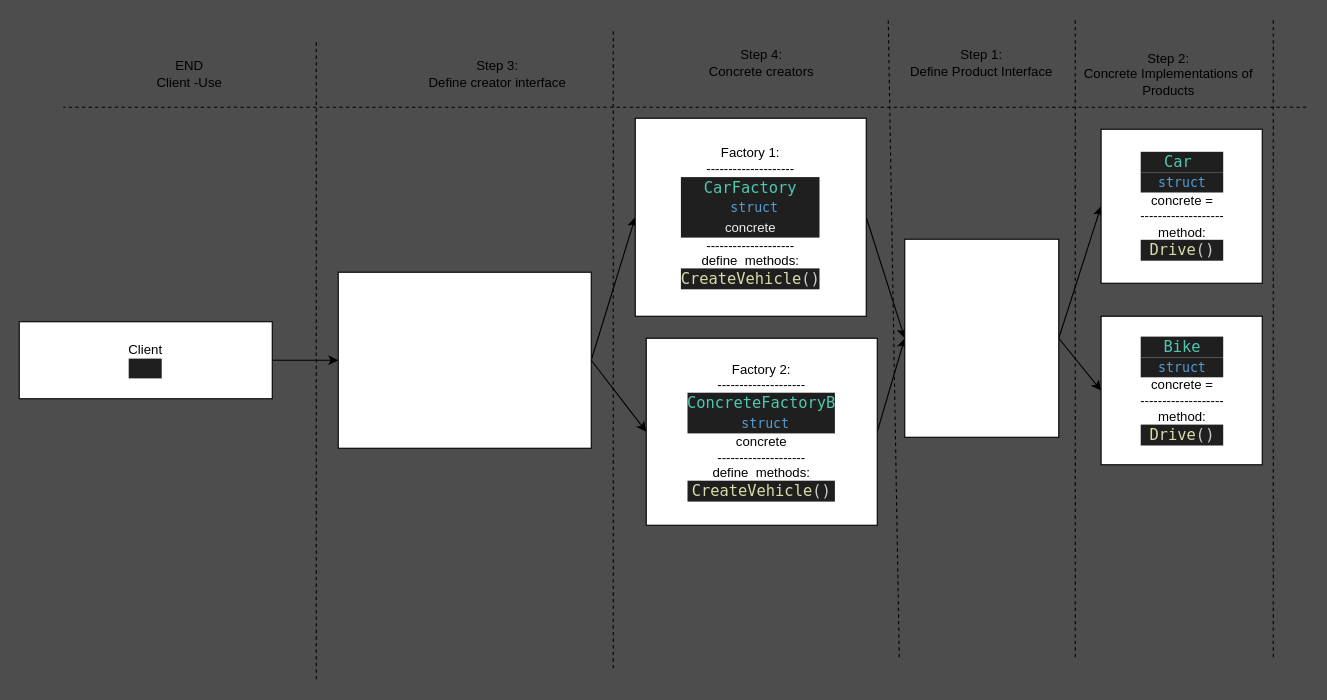
This 1327x700 diagram has some shape labels left out. The shapes that lost their labels are listed below. From the top down, each one's centre as x and y in pixels, then its label:
point 981,337: Vehicle interface ? --------------------- behaviour: Drive ()
point 464,359: VehicleFactory interface ? ------------------ has 2 behaviours: CreateVehicle ()
